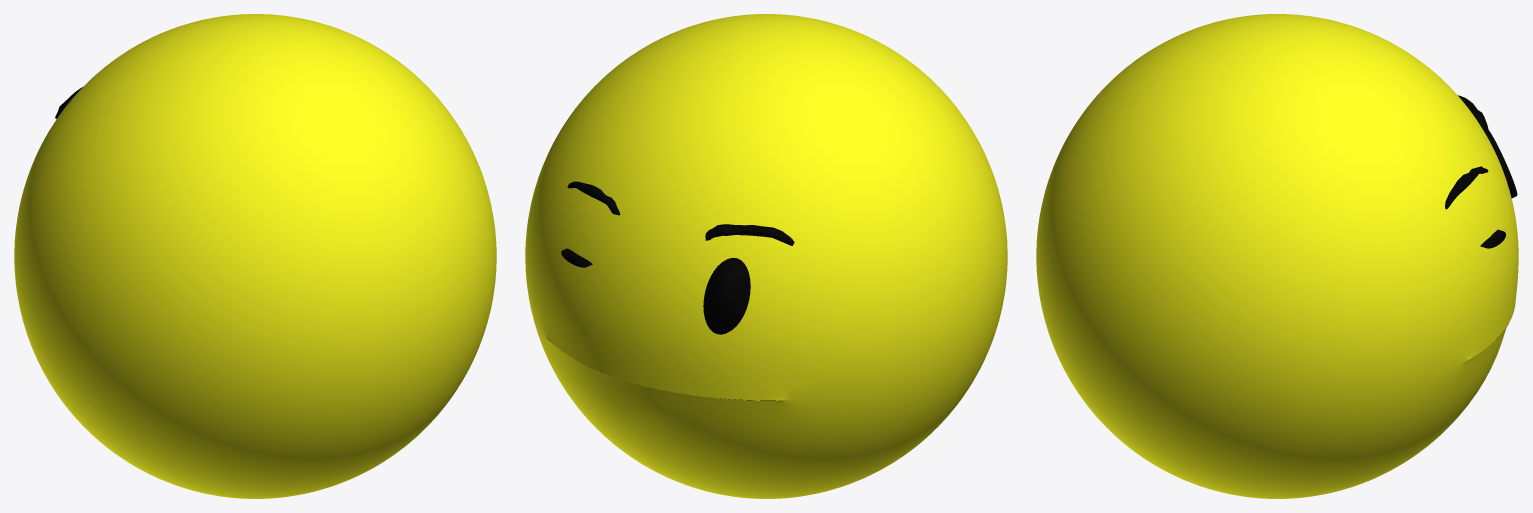
File: [6] leftBlink.obj
3 renders of one model, left to right at view 1: azimuth 30°, elevation 25°; view 2: azimuth 150°, elevation 25°; view 3: azimuth 270°, elevation 25°, orthographic.
Parts seen in each view (by area): view 1: head_Sphere.002; view 2: head_Sphere.002, rightEye_Cylinder.001, rightEyebrow_Cylinder.005, leftEyebrow_Cylinder.003; view 3: head_Sphere.002, leftEyebrow_Cylinder.003.
Boxes of the visible parts, x1,y1,x2,y2 form: head_Sphere.002: [14, 14, 496, 498]; head_Sphere.002: [525, 14, 1007, 498]; rightEye_Cylinder.001: [703, 257, 750, 334]; rightEyebrow_Cylinder.005: [705, 224, 794, 245]; leftEyebrow_Cylinder.003: [567, 181, 619, 215]; head_Sphere.002: [1036, 14, 1518, 498]; leftEyebrow_Cylinder.003: [1445, 166, 1488, 209].
Size of the model in its own units: 3.65 by 3.69 by 3.65.
